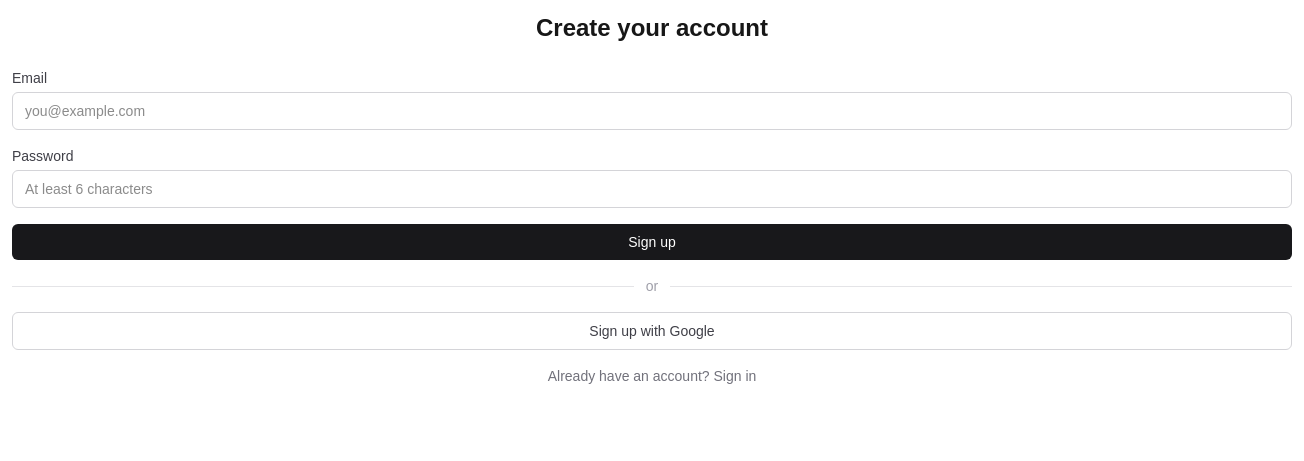
Scenario: SignupPage › shows an error message when signup fails
This screenshot has width=1304, height=461.
Step 1. Type "existing@example.com" into the field with placeholder "you@example.com" → (652, 111), box x1=12 y1=92 x2=1292 y2=130
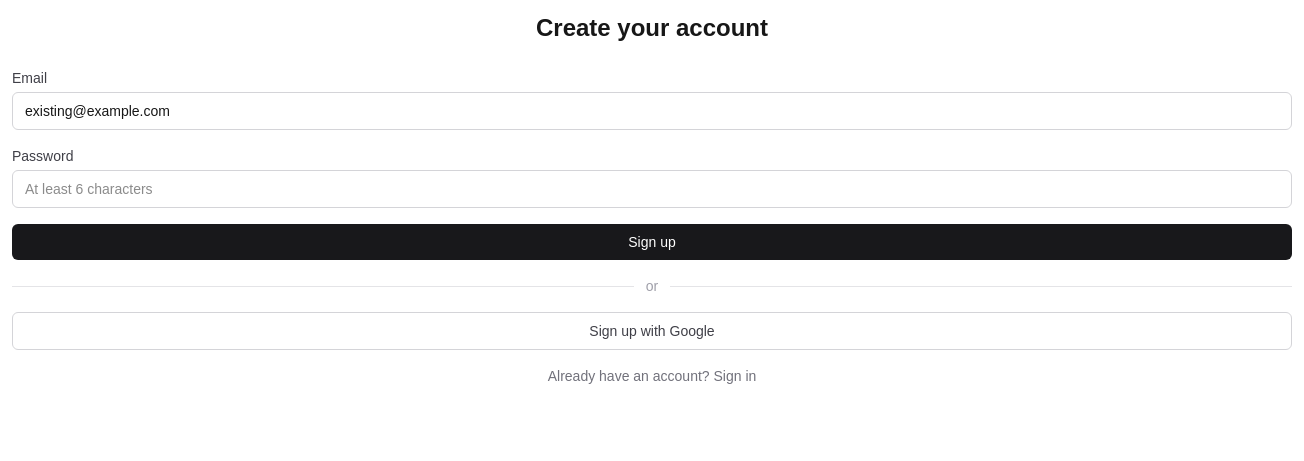
Step 2. Type "password123" into the password field with placeholder "At least 6 characters" → (652, 189), box x1=12 y1=170 x2=1292 y2=208
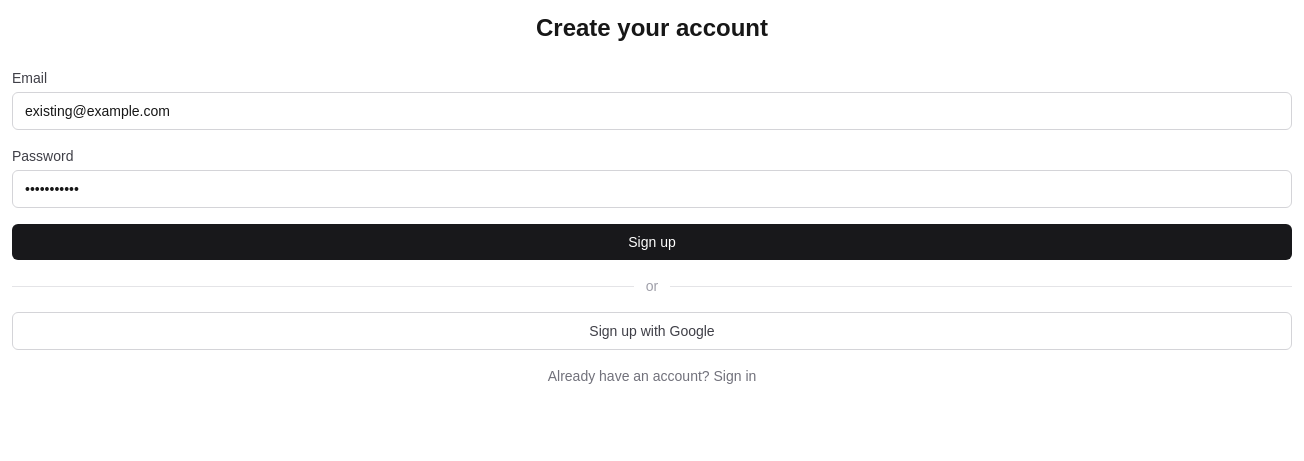
Step 3. Click the button "Sign up" → (652, 242), box x1=12 y1=224 x2=1292 y2=260
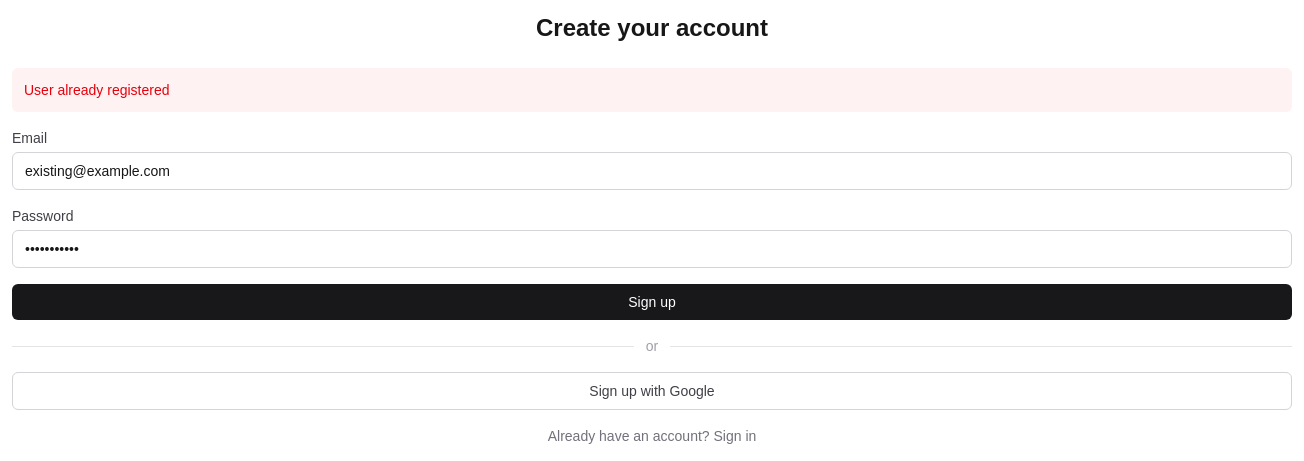
Check: the text "User already registered" is shown, box x1=12 y1=68 x2=1292 y2=112
